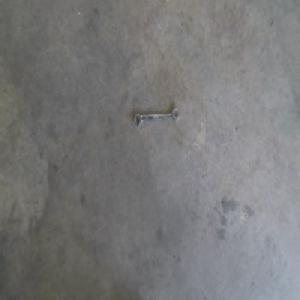Wrench: (133, 107, 180, 129)
